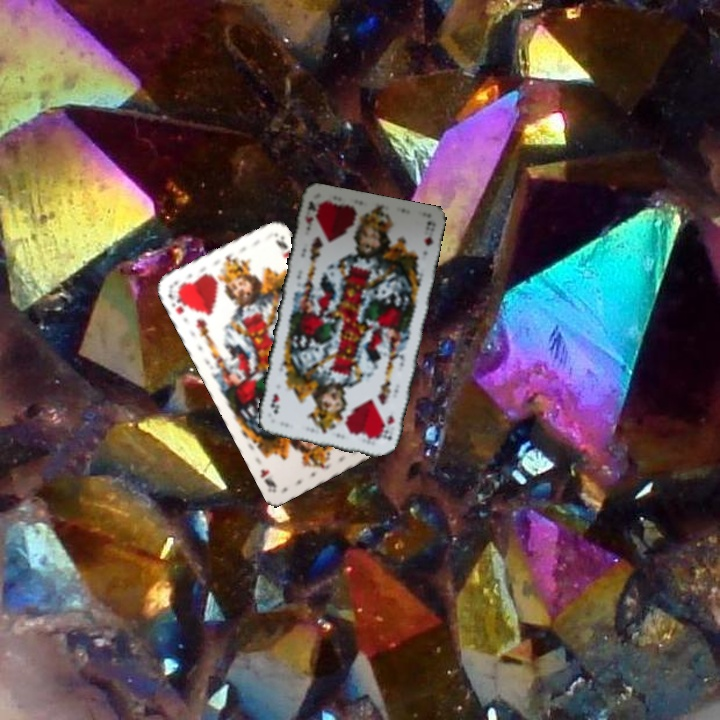HK: (164, 283, 189, 317), (301, 197, 321, 233), (379, 411, 397, 443)
